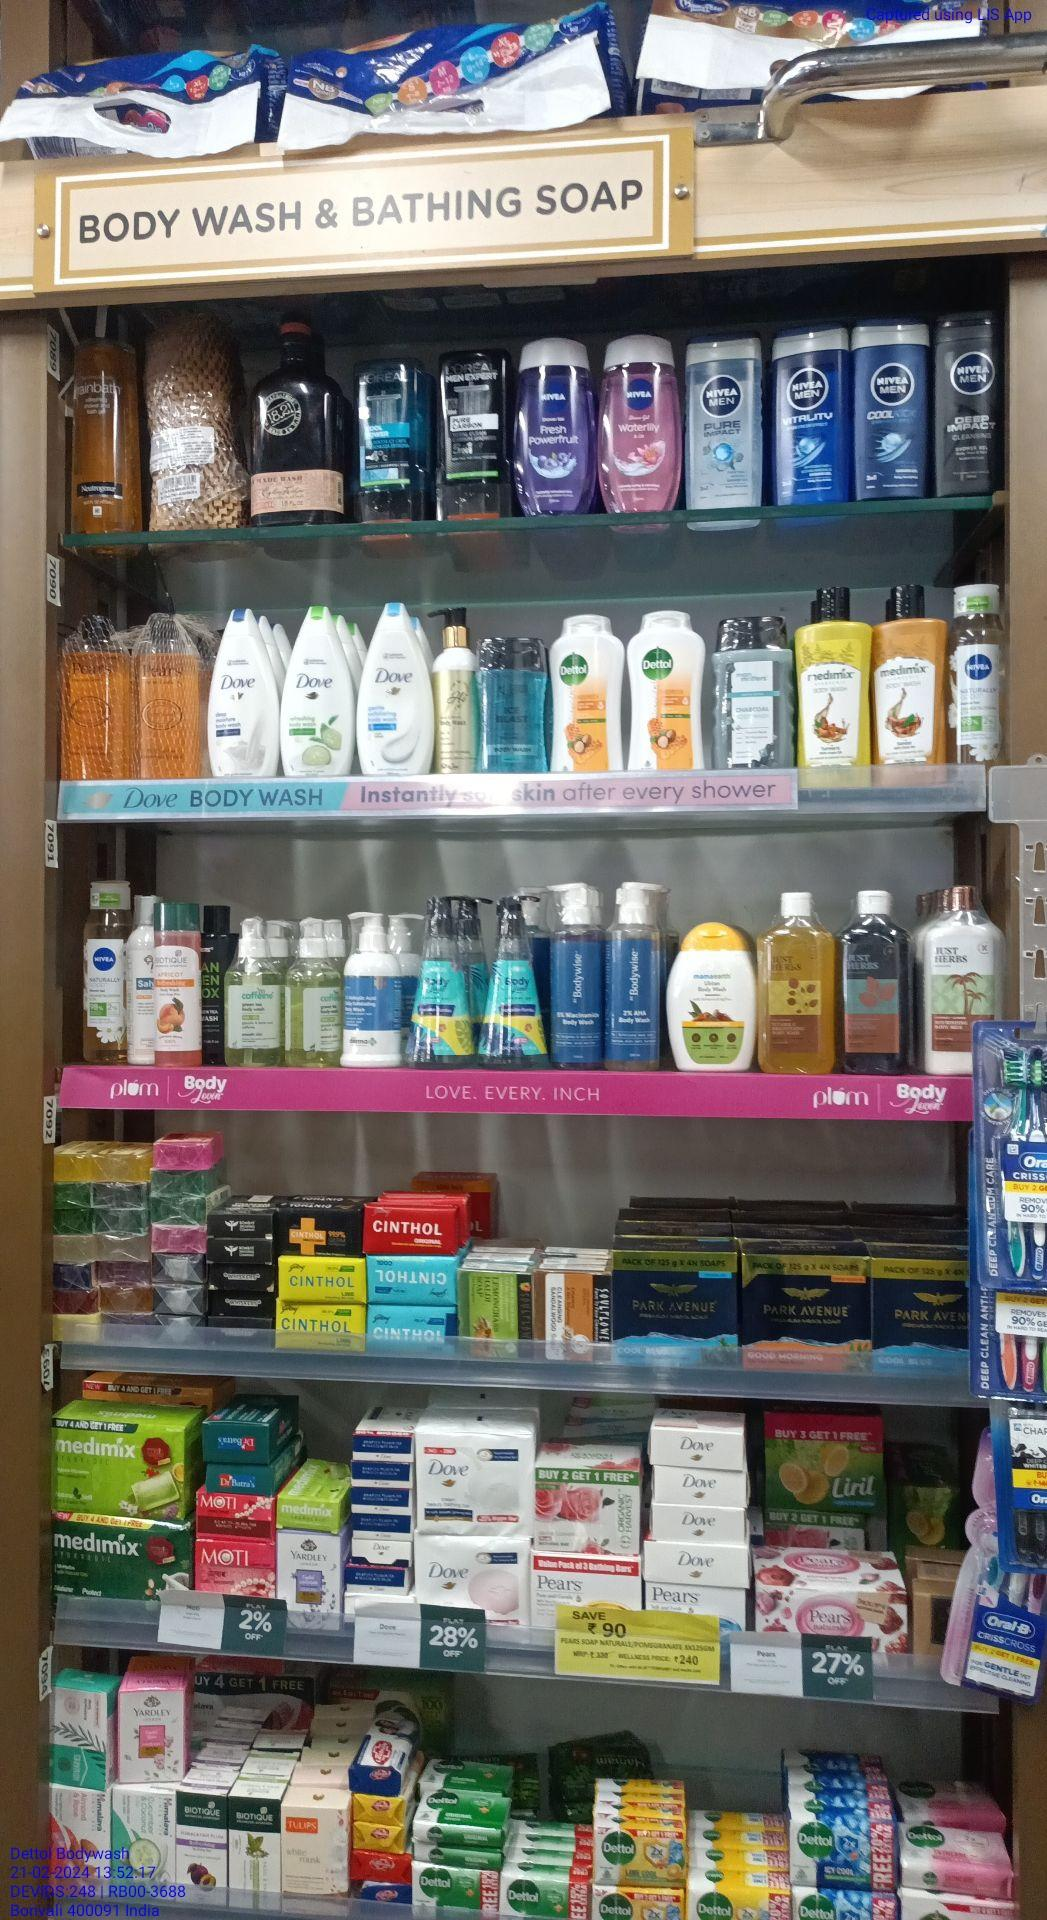Dettol_Nourish_Body_Wash_250ML: (547, 611, 625, 775), (627, 610, 707, 770)
Dove_Deep_Moisture_Body_Wash_250ML: (206, 606, 280, 776)
Dove_Gentle_Exfoliating_Body_Wash_250ML: (356, 601, 435, 776)
Dove_Refreshing_Body_Wash_250ML: (280, 602, 356, 776)
Nivea_Shower_Gel_Fresh_Powerfruit_250ML: (511, 333, 597, 514)
Nivea_Shower_Gel_Waterlily_and_Oil_250ML: (598, 333, 682, 512)
